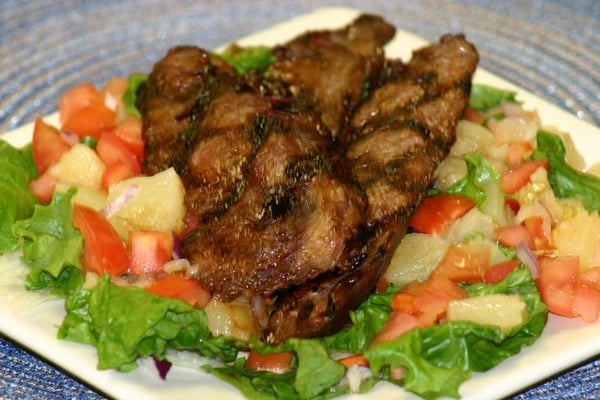sushi: (2, 0, 594, 395)
